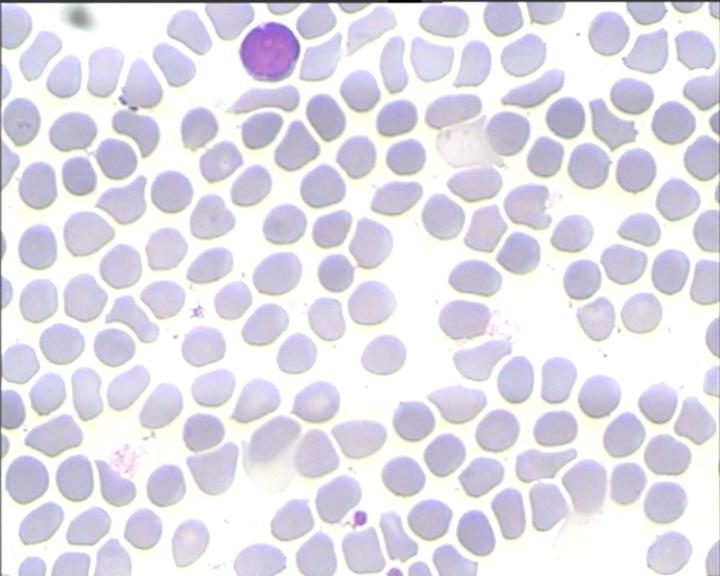lymp: (235, 15, 303, 87)
